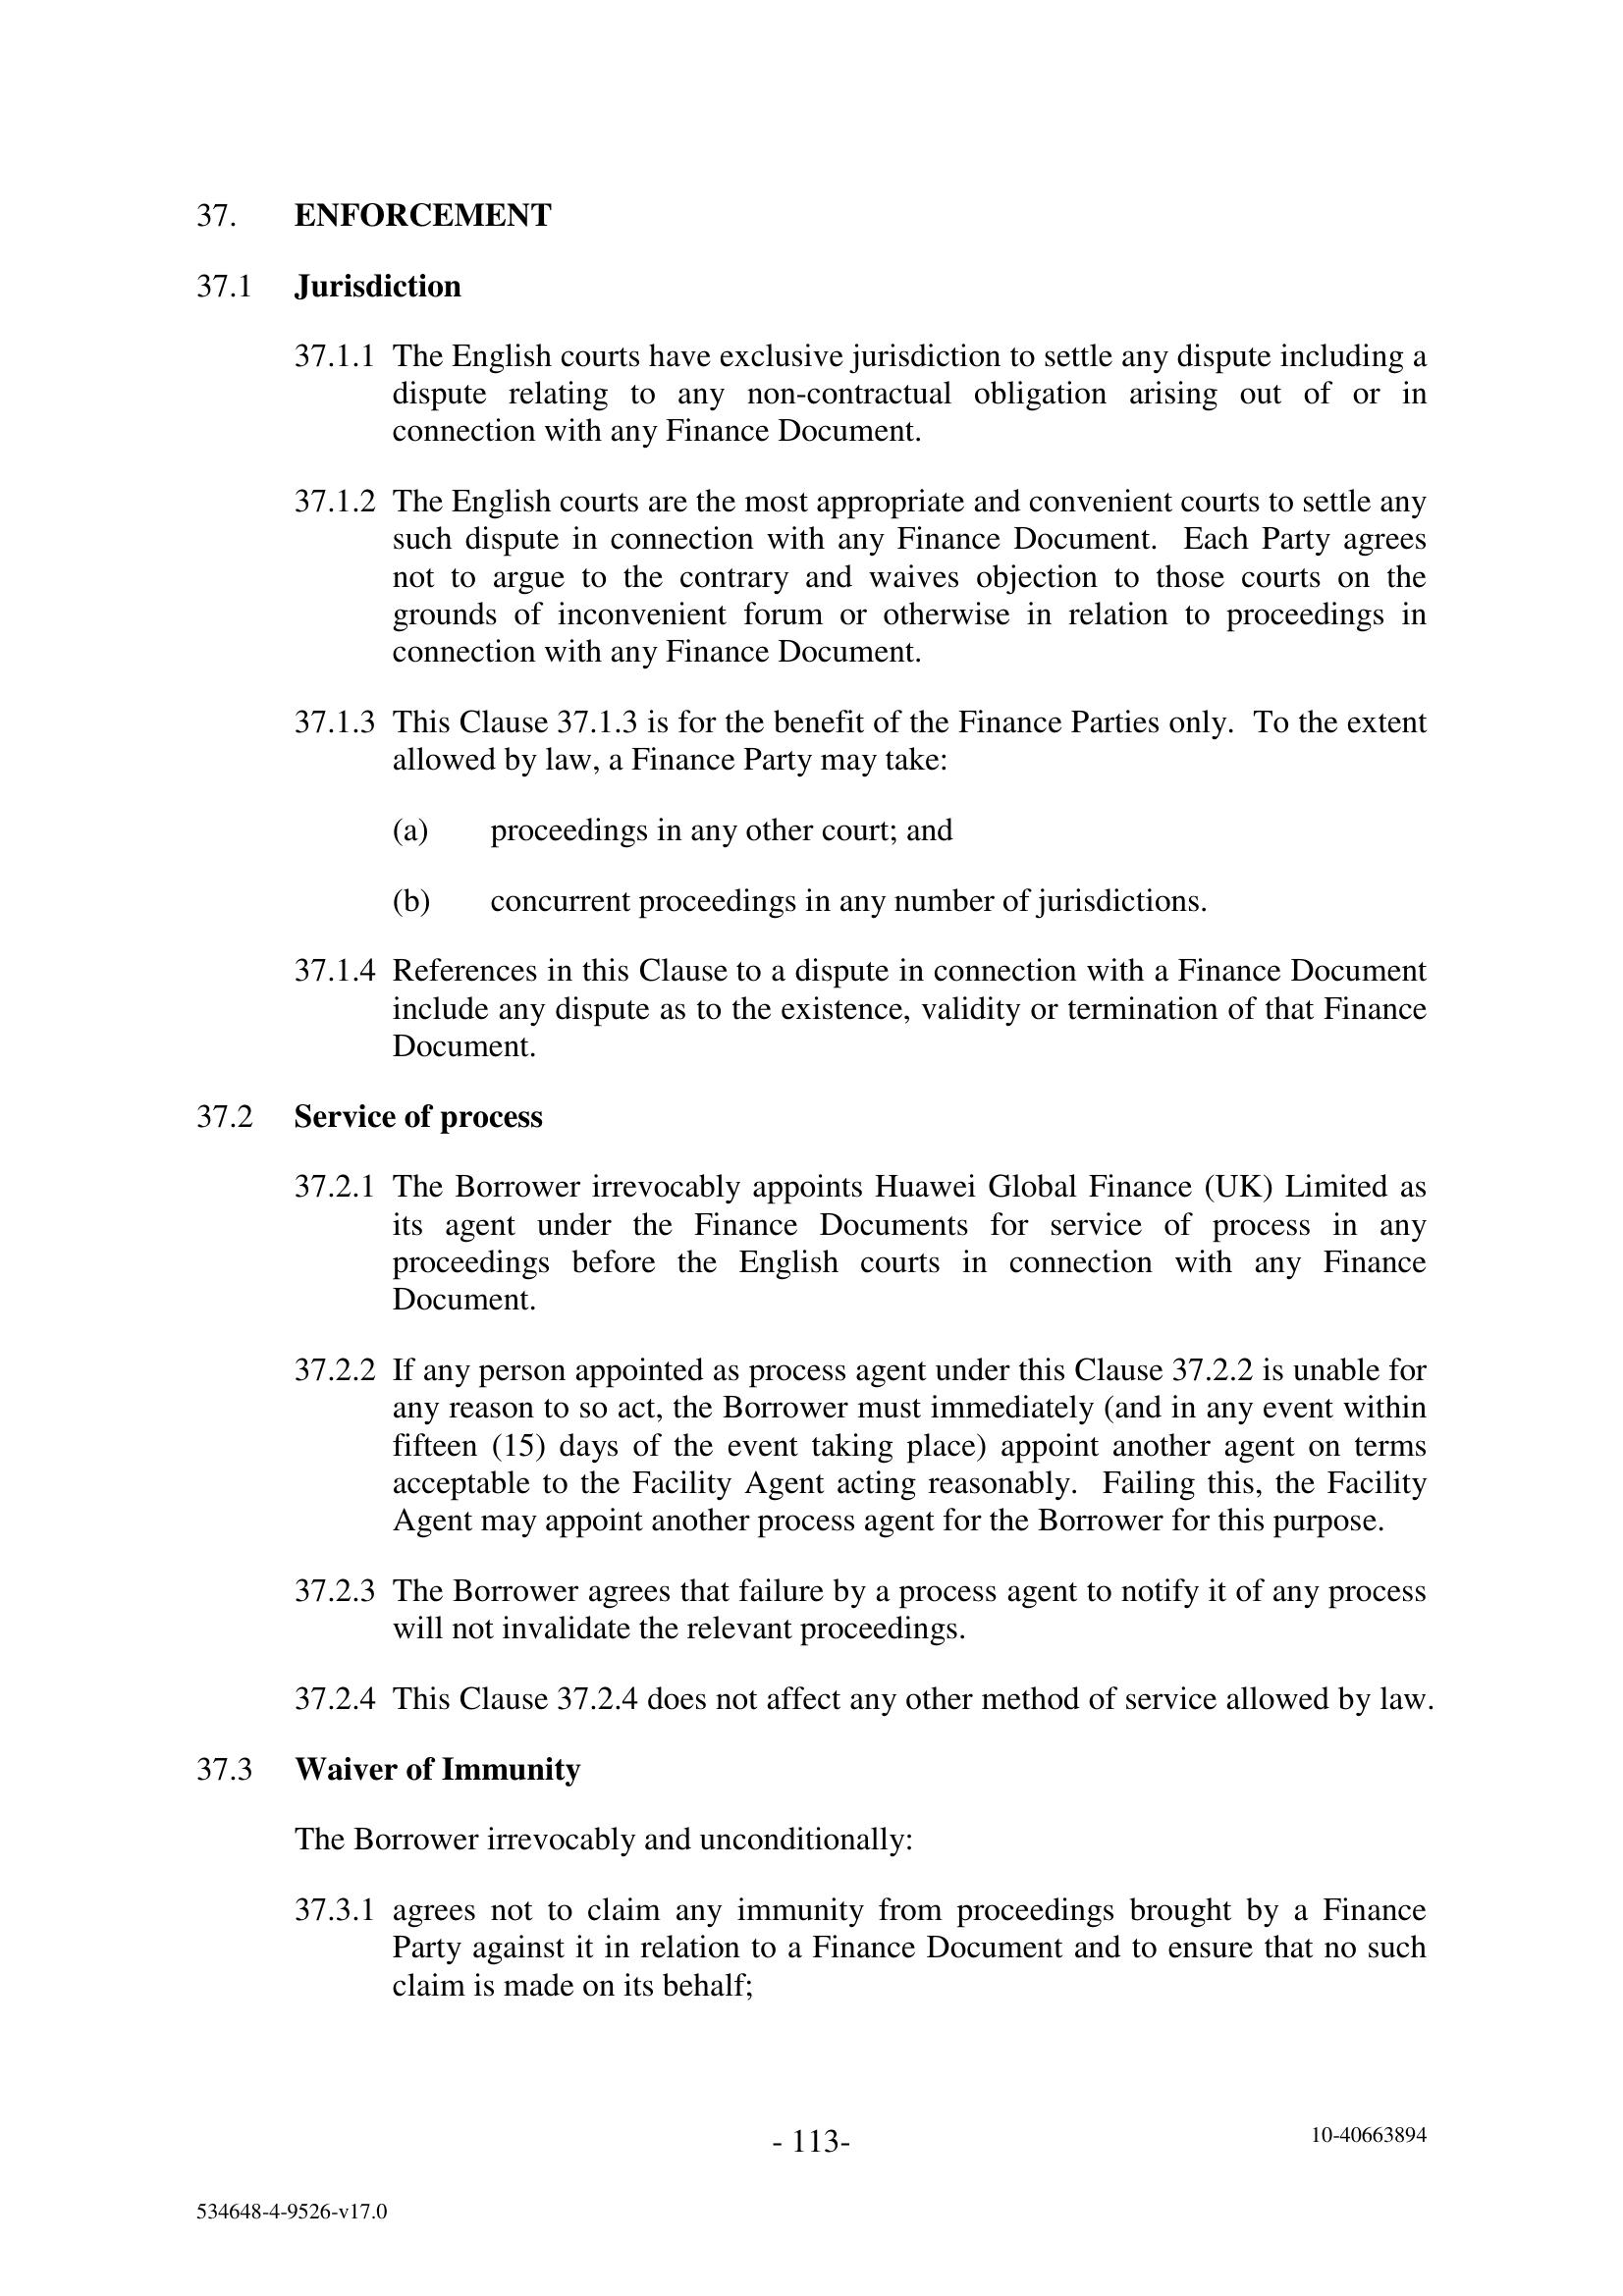pageno: (724, 2068, 903, 2219)
tag: (84, 2164, 497, 2270), (1193, 2082, 1558, 2185)
